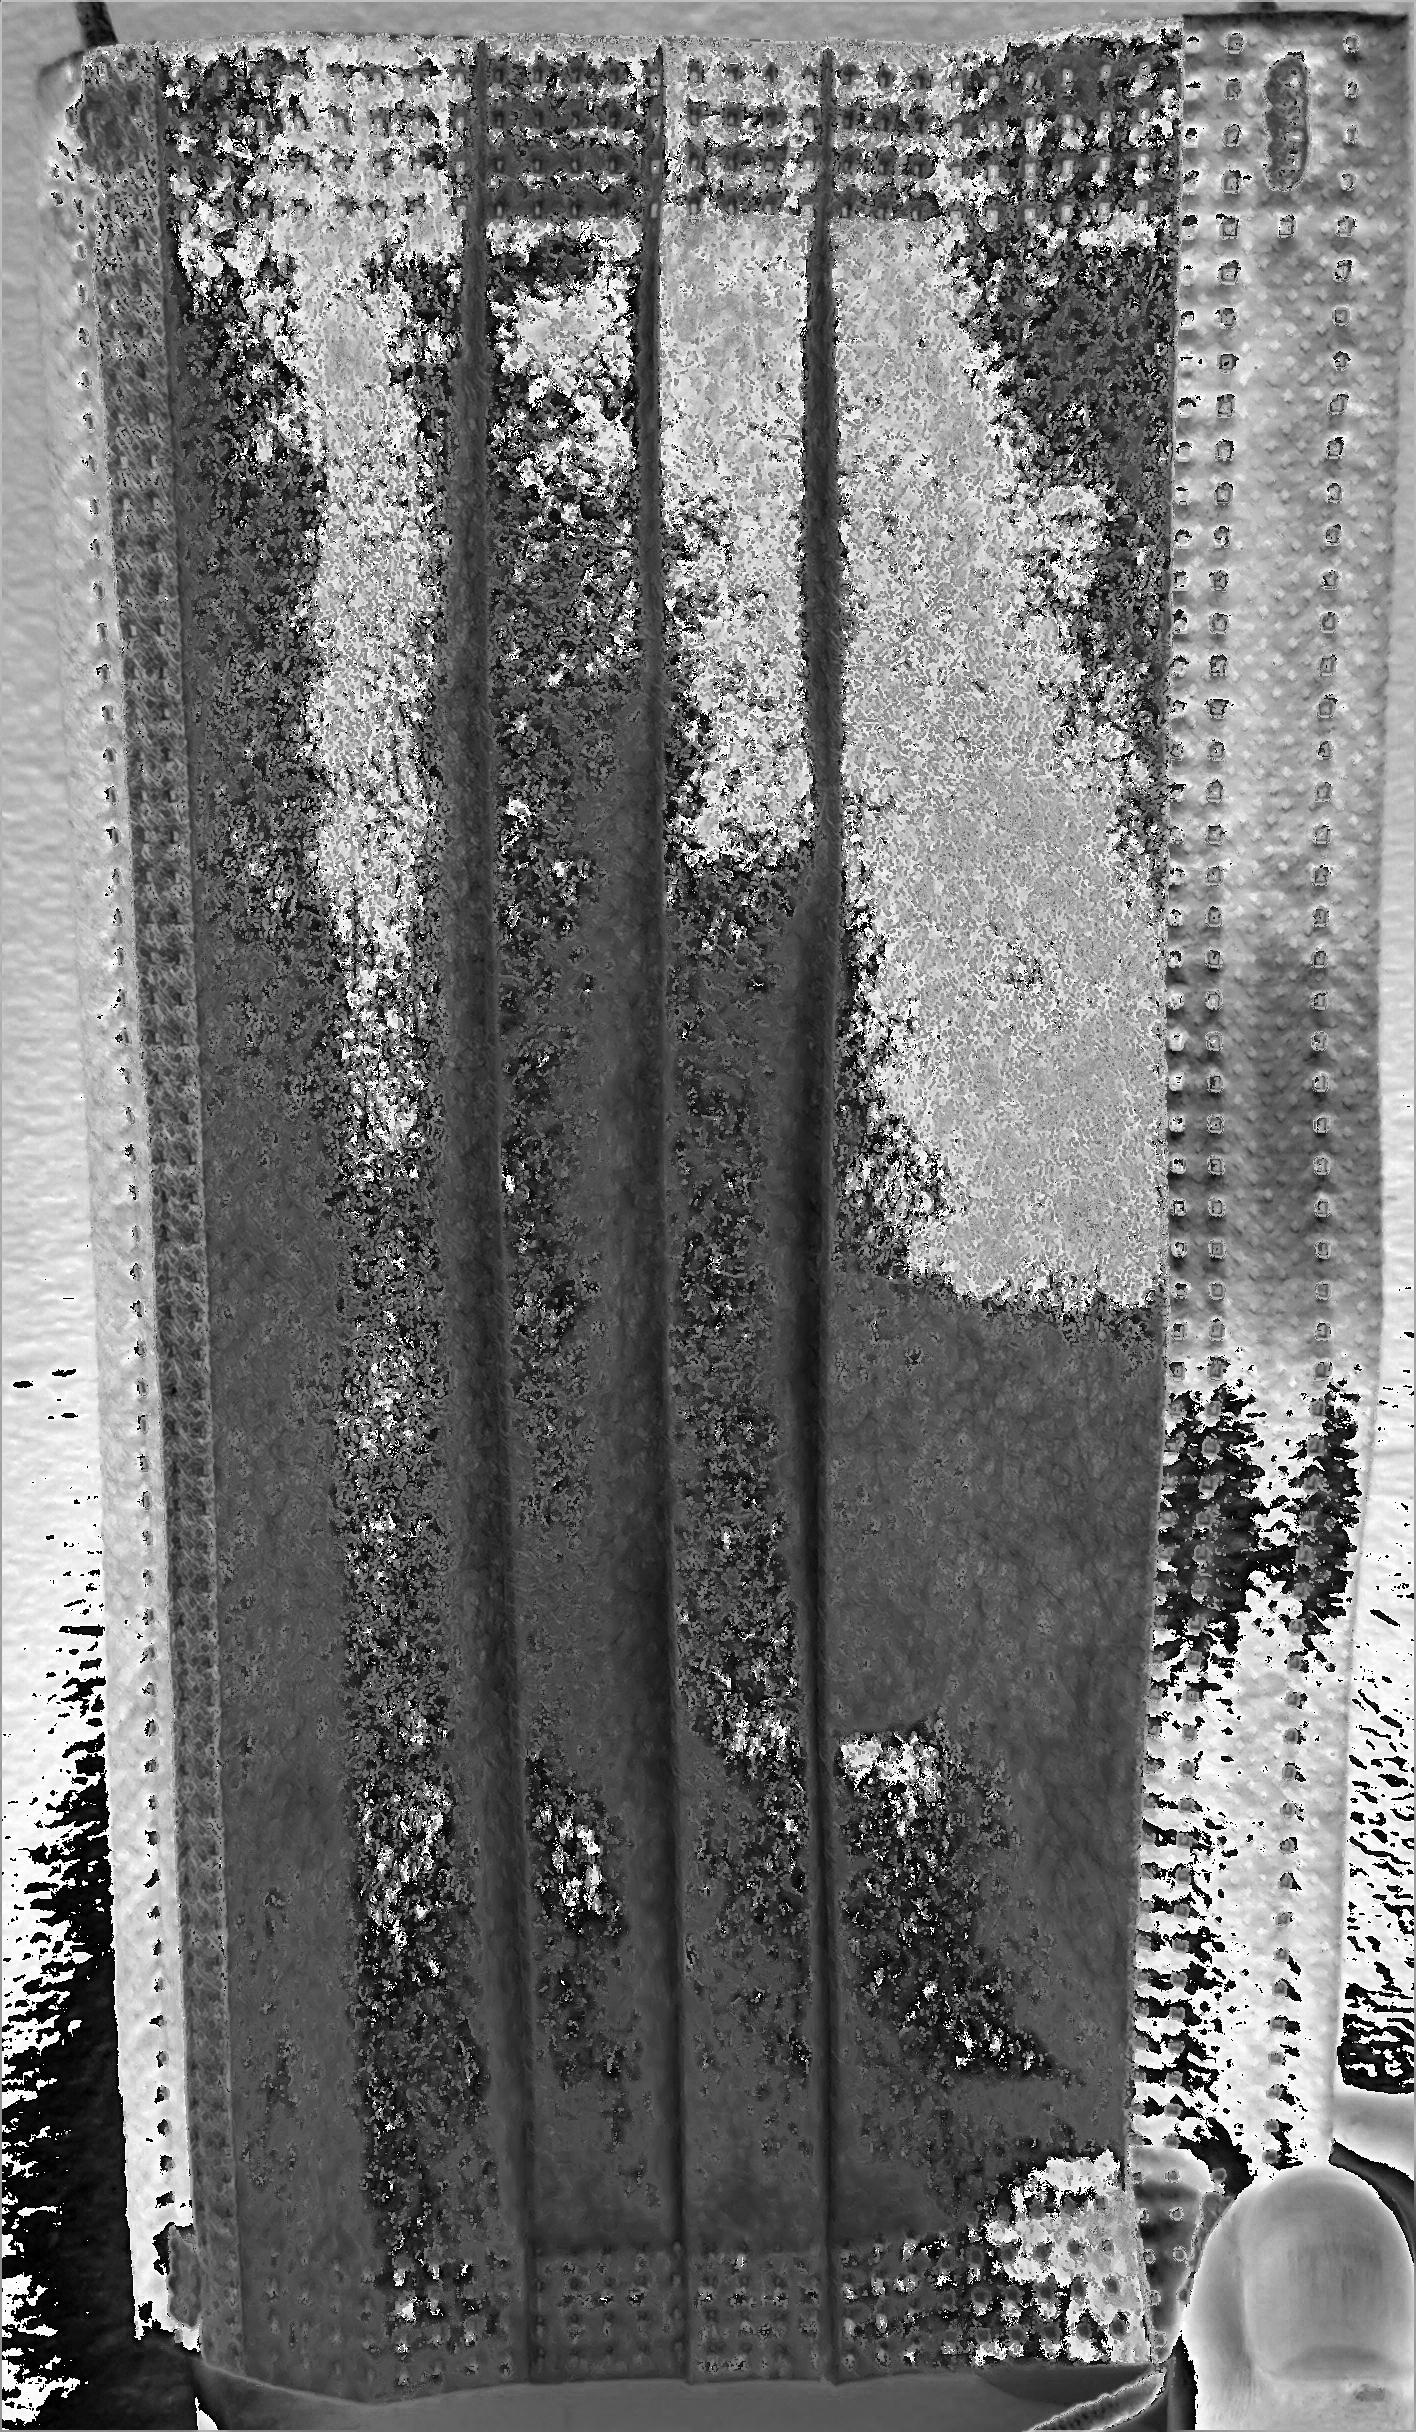Low GSM: (170, 246, 1114, 2218)
Undefined Area: (1160, 2144, 1416, 2429)
